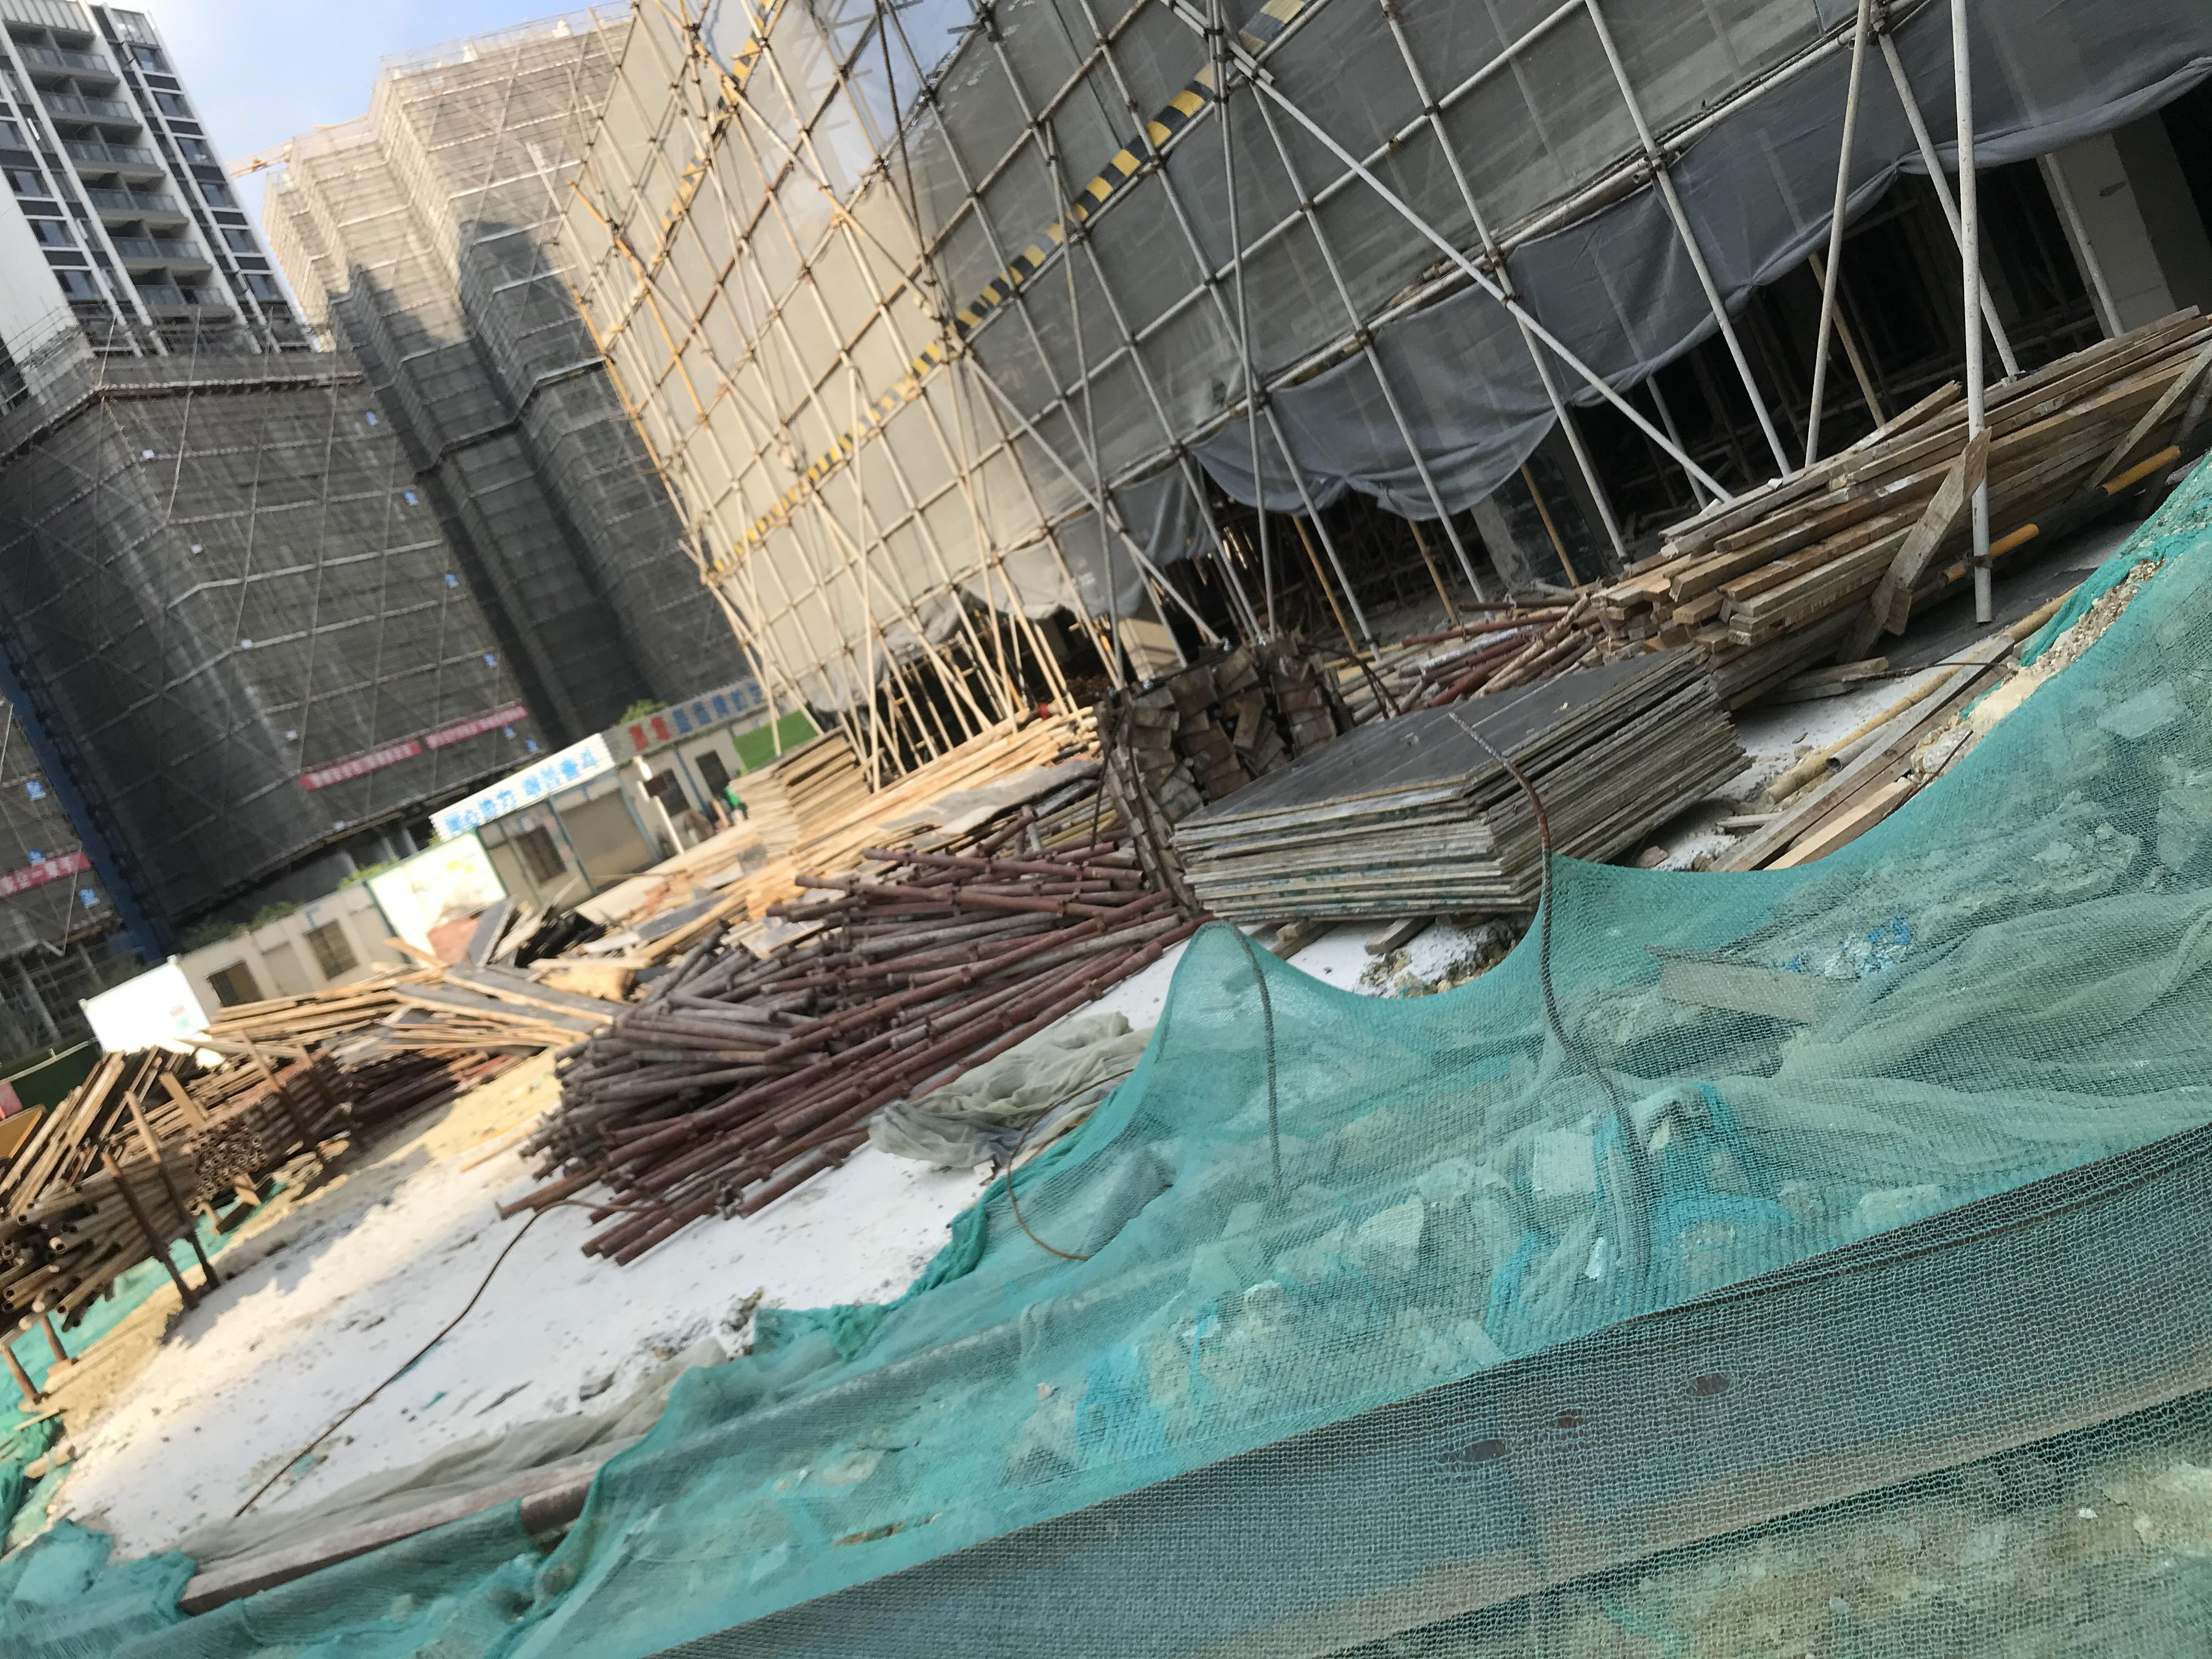board: (1176, 634, 1742, 939), (744, 728, 862, 857)
scaffold: (491, 789, 1148, 1243), (169, 1025, 357, 1227)
wood: (1588, 289, 2212, 671)
